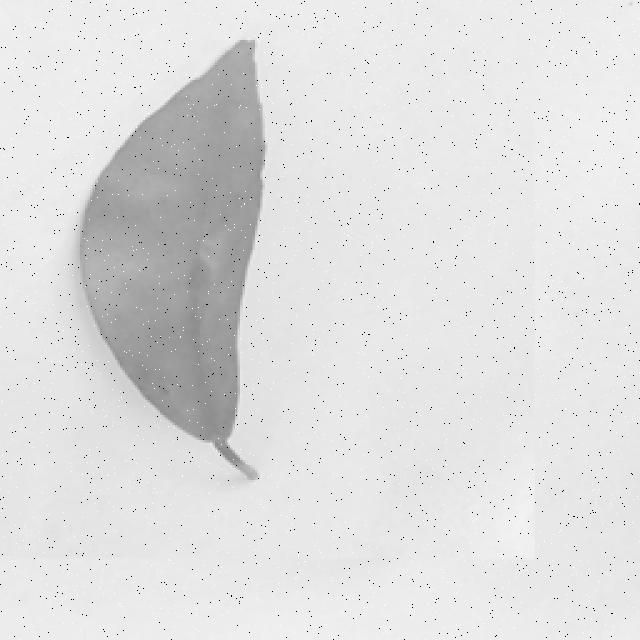greening: (62, 31, 303, 504)
